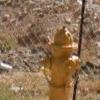Hydrant: (41, 23, 83, 99)
